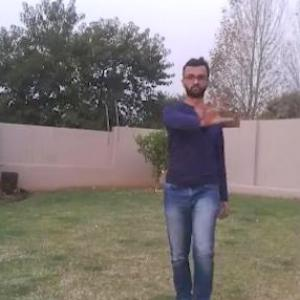follow_hand: (196, 91, 234, 127)
